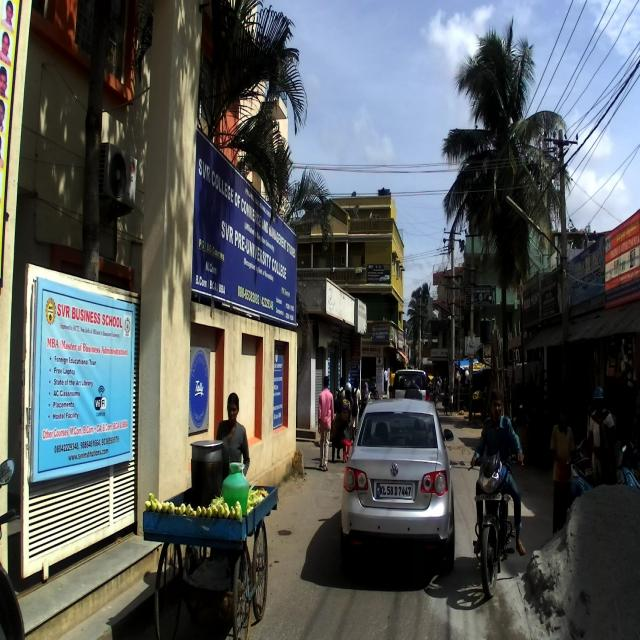car: (337, 397, 455, 581)
motorcycle: (468, 451, 525, 597), (0, 452, 29, 638)
